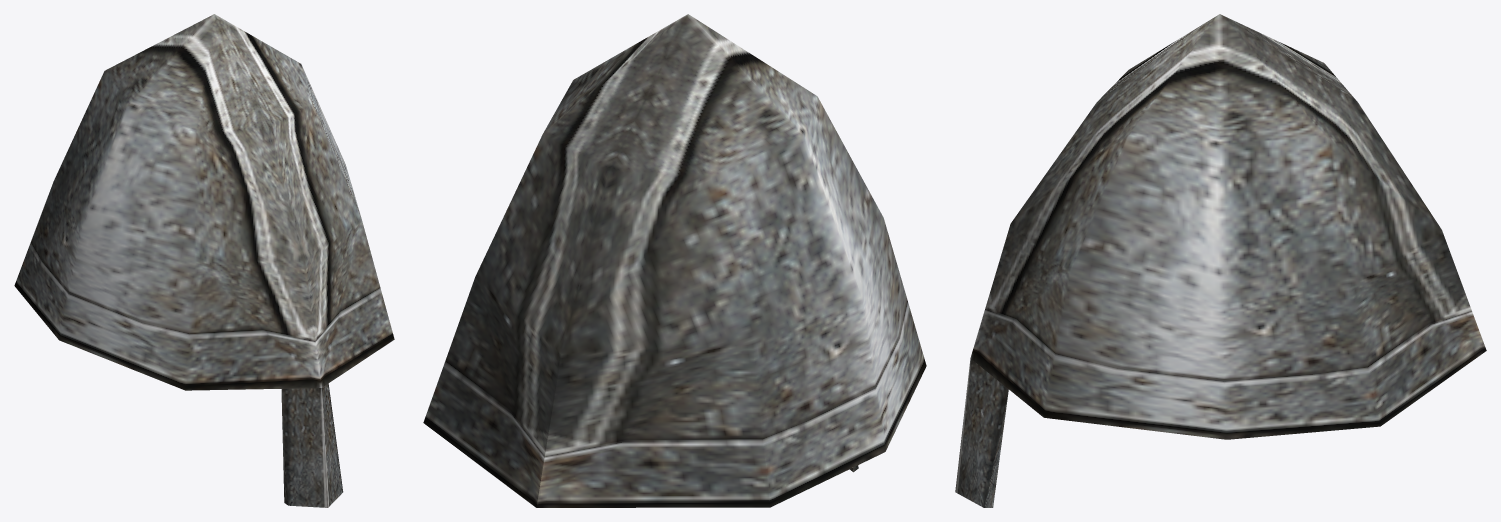
The model's file is mm9_deco_clansoldierhelmet.glb.
The picture shows the model from 3 angles, left to right: view 1: azimuth 30°, elevation 25°; view 2: azimuth 150°, elevation 25°; view 3: azimuth 270°, elevation 25°; orthographic projection. The views are drawn at different scales.
Visible parts, largest first — view 1: Clansoldierhelmet; view 2: Clansoldierhelmet; view 3: Clansoldierhelmet.
Boxes of the visible parts, box(x1,y1,x2,y2) form: Clansoldierhelmet: box(14, 14, 394, 507); Clansoldierhelmet: box(423, 14, 926, 507); Clansoldierhelmet: box(955, 14, 1486, 507).
Size of the model in its own units: 0.2494 by 0.3216 by 0.3239.
2 materials, 2 textured.
